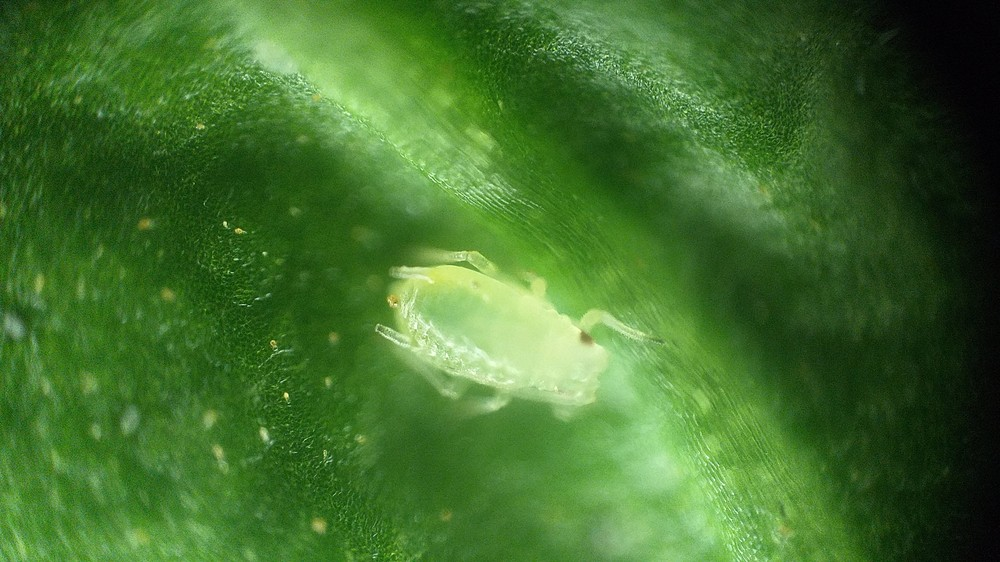Pulgon: (341, 237, 674, 454)
